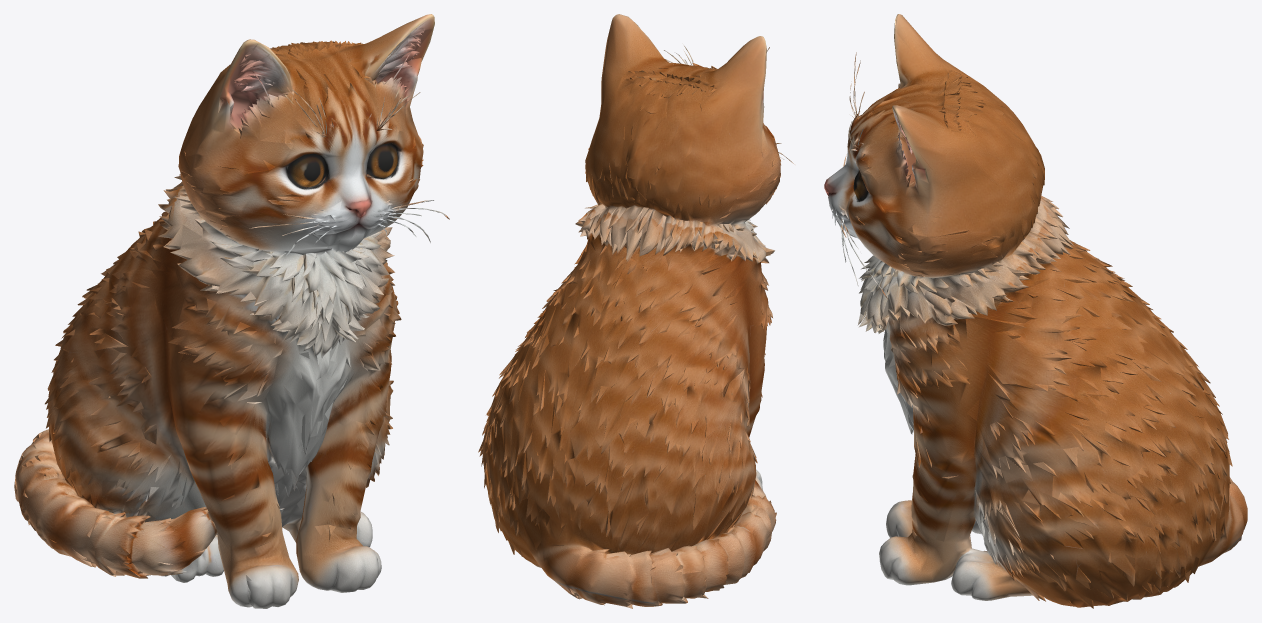
File: Cat.fbx
3 renders of one model, left to right at view 1: azimuth 30°, elevation 25°; view 2: azimuth 150°, elevation 25°; view 3: azimuth 270°, elevation 25°, orthographic. The views are drawn at different scales.
Visible parts, largest first — view 1: Mesh_0; view 2: Mesh_0; view 3: Mesh_0.
Part boxes in pixels (x1,y1,x2,y2): Mesh_0: [14, 14, 449, 608]; Mesh_0: [478, 14, 794, 608]; Mesh_0: [824, 14, 1247, 608].
Size of the model in its own units: 114 by 190 by 142.
Materials: 1 (1 with a texture image).
